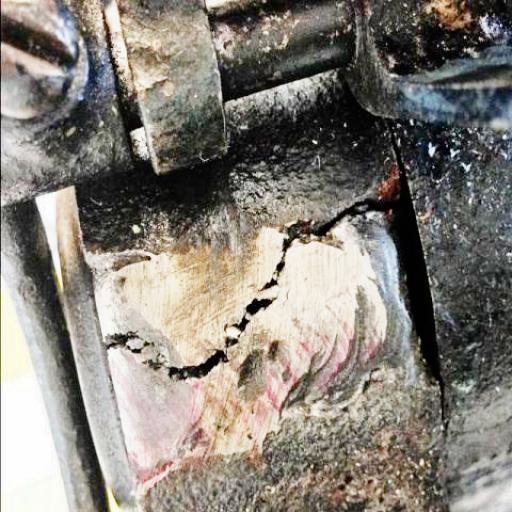crack: (100, 188, 392, 393)
